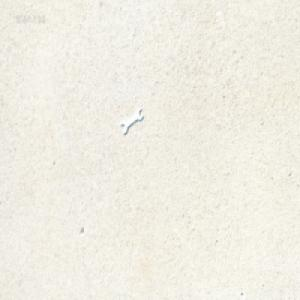Wrench: (119, 107, 141, 135)
